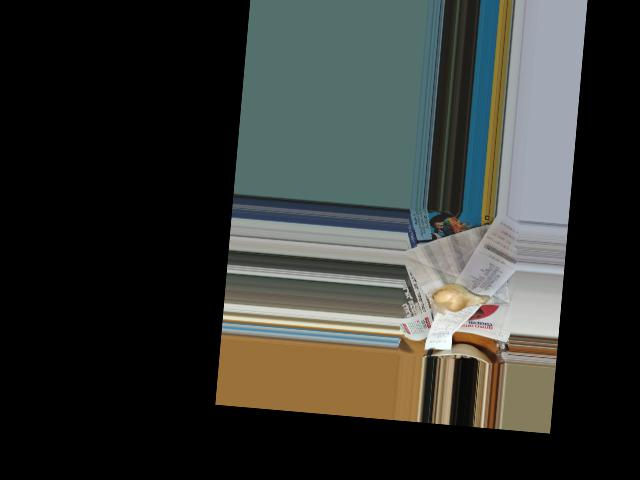onion: (431, 281, 486, 316)
